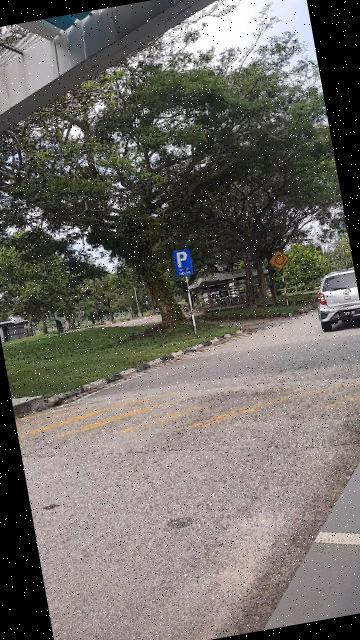car: (309, 260, 360, 337)
